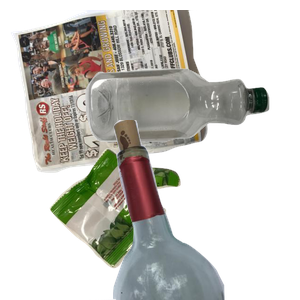glass: (89, 120, 300, 300)
paper: (10, 10, 210, 175)
plastic: (83, 66, 300, 201)
trash: (47, 146, 220, 300)
